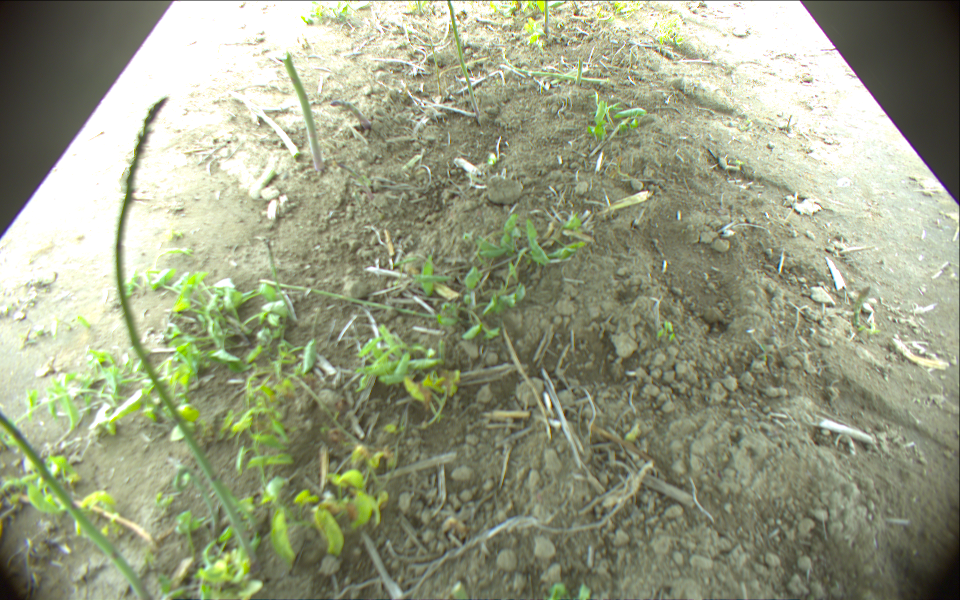aspa: (115, 97, 259, 562), (1, 410, 155, 595), (260, 279, 442, 318), (279, 53, 328, 169), (229, 90, 303, 158), (446, 1, 485, 120), (504, 67, 612, 84), (329, 98, 375, 127), (263, 237, 278, 293), (542, 1, 556, 34), (575, 61, 584, 84), (415, 1, 426, 15)
